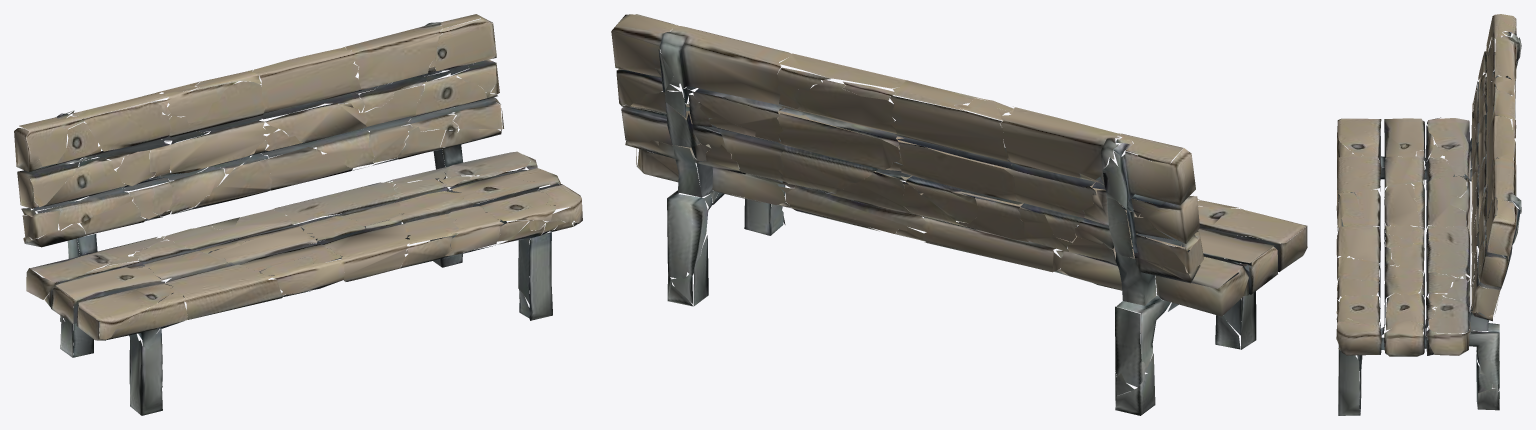
Rendered from prop01.glb.
The picture shows the model from 3 angles, left to right: view 1: azimuth 30°, elevation 25°; view 2: azimuth 150°, elevation 25°; view 3: azimuth 270°, elevation 25°; orthographic projection. The views are drawn at different scales.
Visible parts, largest first — view 1: tripo_node_f280c2ca-6c08-4d49-ad46-aa89d2188a4a; view 2: tripo_node_f280c2ca-6c08-4d49-ad46-aa89d2188a4a; view 3: tripo_node_f280c2ca-6c08-4d49-ad46-aa89d2188a4a.
Part boxes in pixels (left/top/right/bottom): tripo_node_f280c2ca-6c08-4d49-ad46-aa89d2188a4a: left=14, top=14, right=582, bottom=415; tripo_node_f280c2ca-6c08-4d49-ad46-aa89d2188a4a: left=611, top=14, right=1307, bottom=415; tripo_node_f280c2ca-6c08-4d49-ad46-aa89d2188a4a: left=1336, top=14, right=1521, bottom=415.
Size of the model in its own units: 1 by 0.4463 by 0.3587.
1 material, 1 textured.
